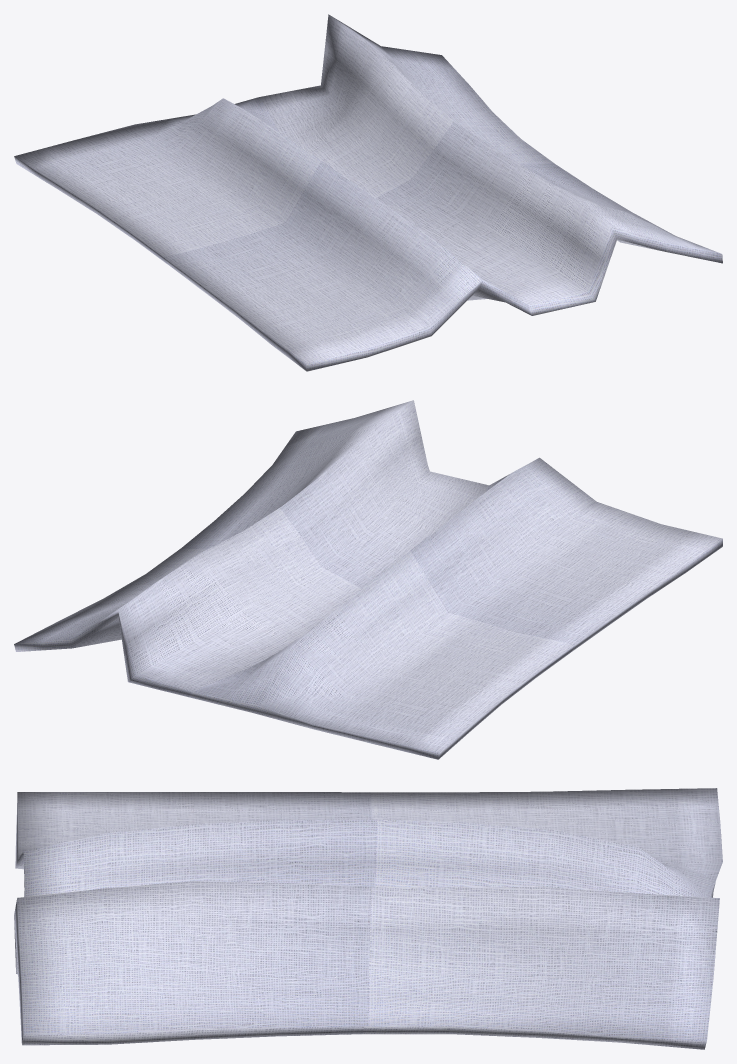
Rendered from Gasa.fbx.
3 views of the same model, one above another, from view 1: azimuth 30°, elevation 25°; view 2: azimuth 150°, elevation 25°; view 3: azimuth 270°, elevation 25° (orthographic). The views are drawn at different scales.
Parts seen in each view (by area): view 1: gasa; view 2: gasa; view 3: gasa.
Part boxes in pixels (x1,y1,x2,y2): gasa: [14, 14, 722, 371]; gasa: [14, 400, 722, 759]; gasa: [14, 788, 722, 1049].
Bounding box in the file's own units: 171 × 30.09 × 202.
1 material, 1 textured.
